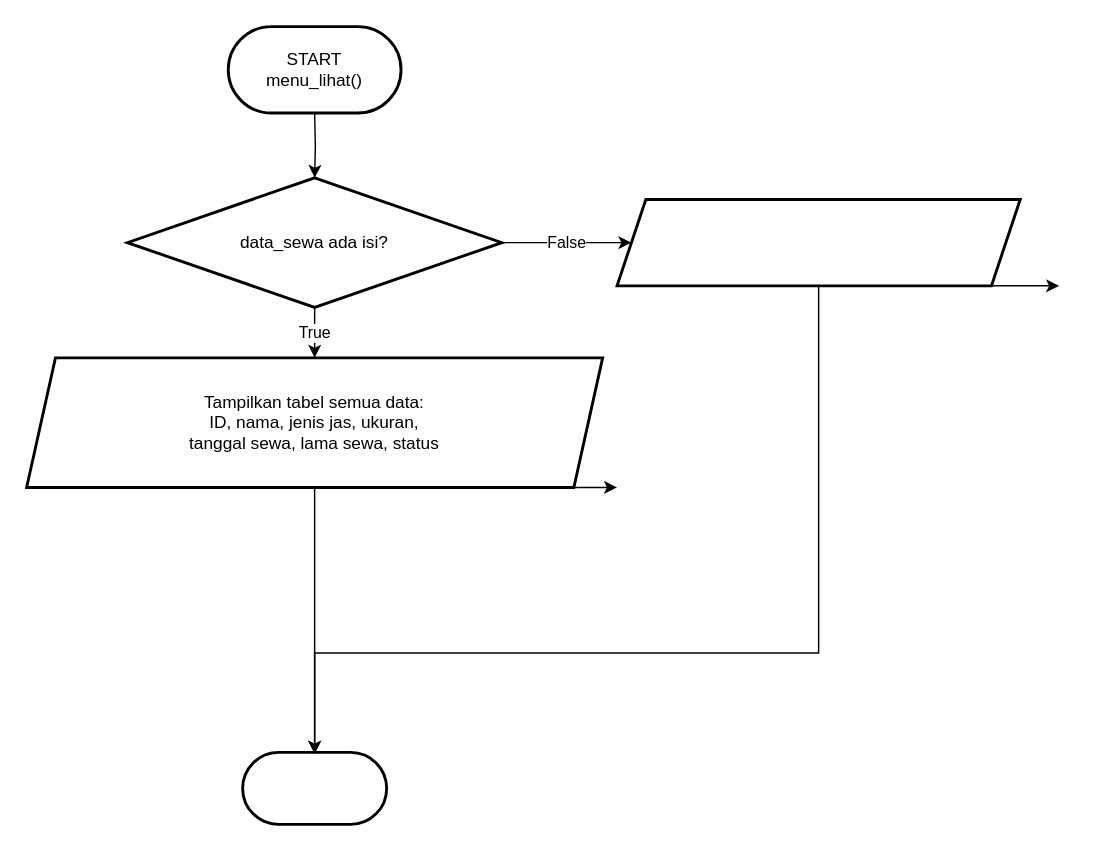
Some shapes in this 1096 by 850 pixel diagram are drawn without their labels. The centre of each missing label's shape, as x and y in pixels:
"Belum ada data penyewaan": pixel 818 242
END: pixel 313 787
